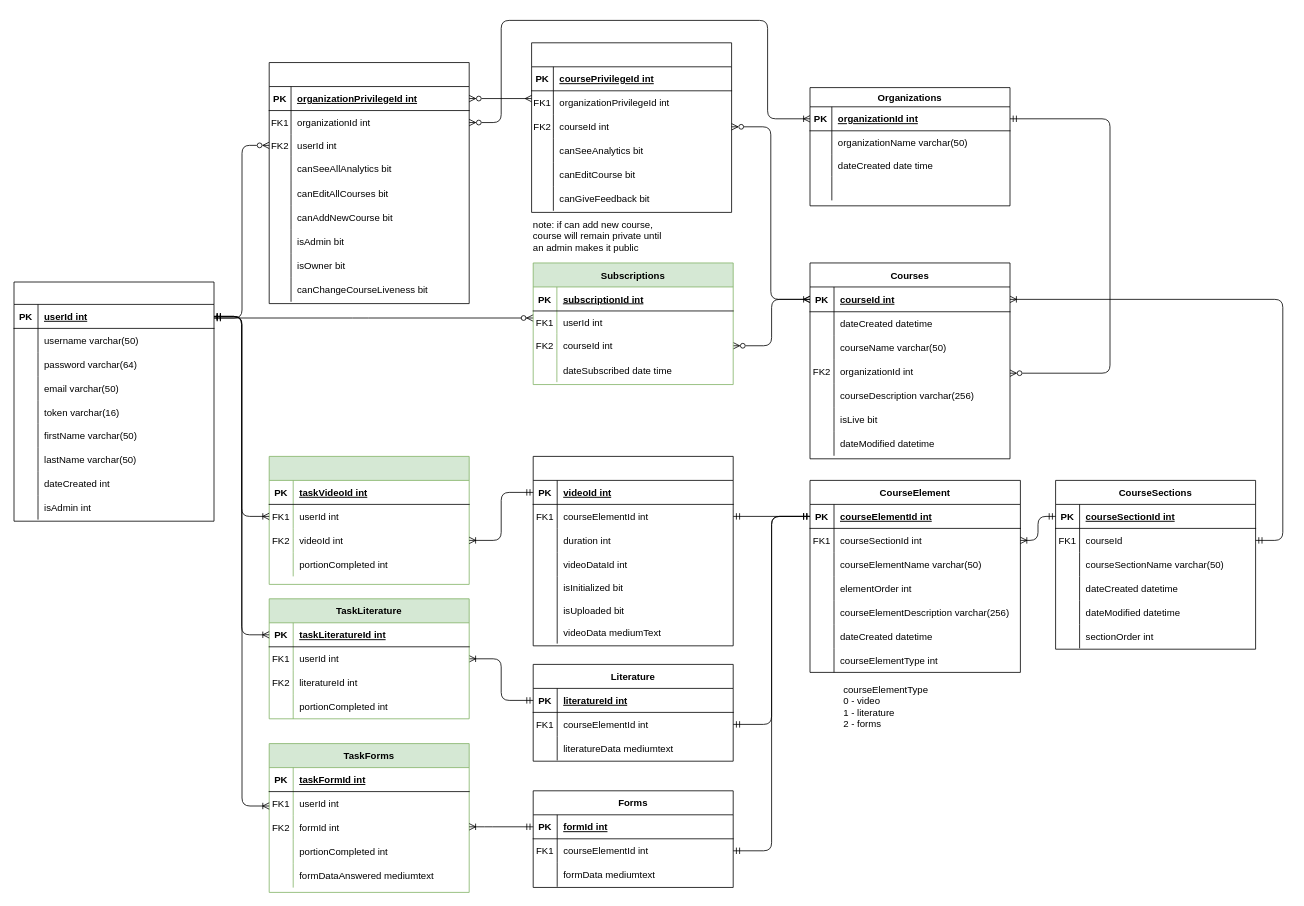
Some shapes in this 1304 by 906 pixel diagram are drawn without their labels. The shapes that lost their labels are listed below. From the top down, each one's box as (x1, y1, x2, y2) in pixels, then its label:
(531, 42, 732, 212): CoursePrivileges
(268, 62, 469, 304): OrganizationPrivileges
(13, 281, 214, 521): Users
(268, 456, 469, 584): TaskVideos
(532, 456, 733, 646): Videos
